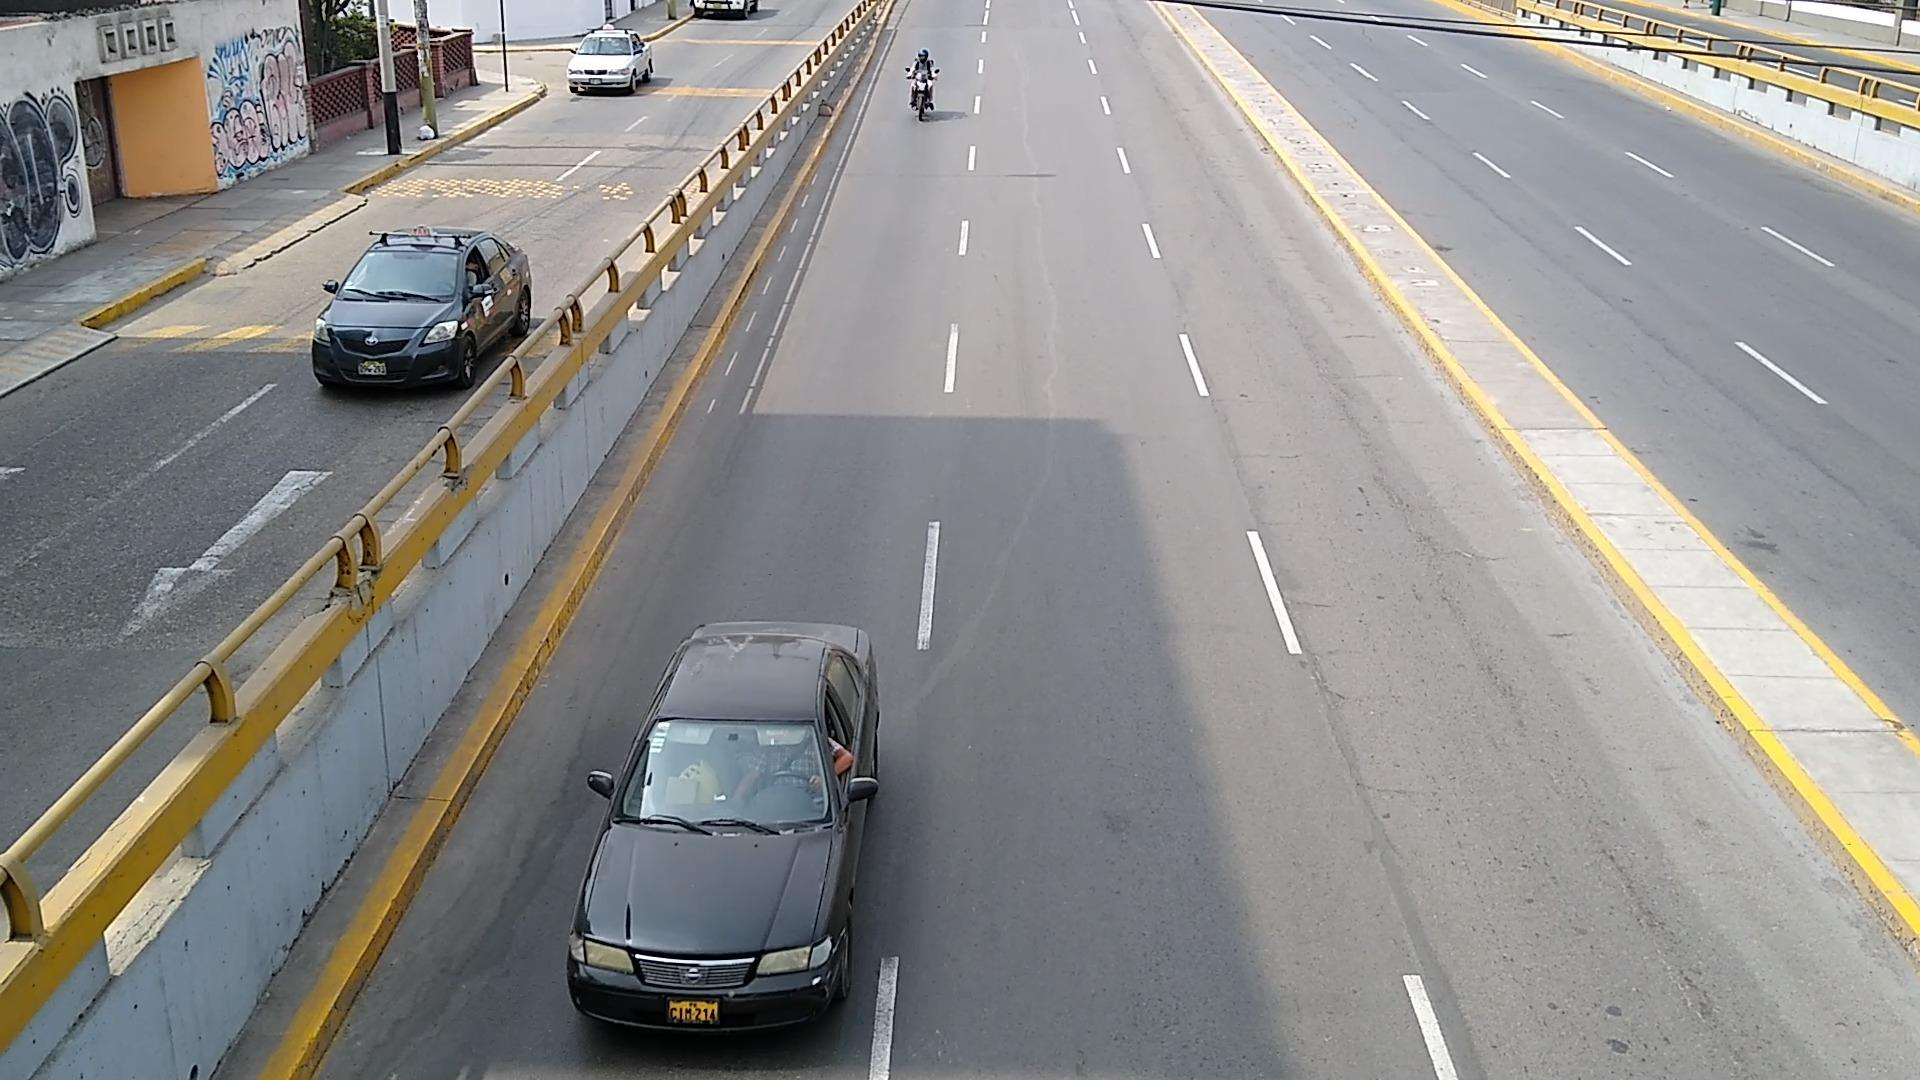car: (566, 622, 881, 1031), (311, 228, 533, 386), (566, 30, 653, 92)
motorcyclist: (907, 49, 938, 120)
